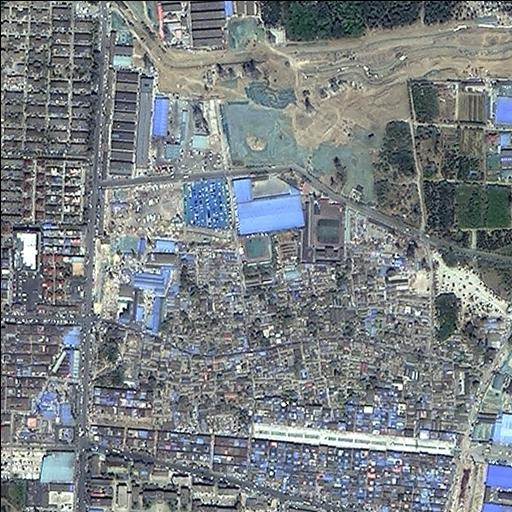school: (301, 191, 347, 265), (238, 229, 279, 288)
